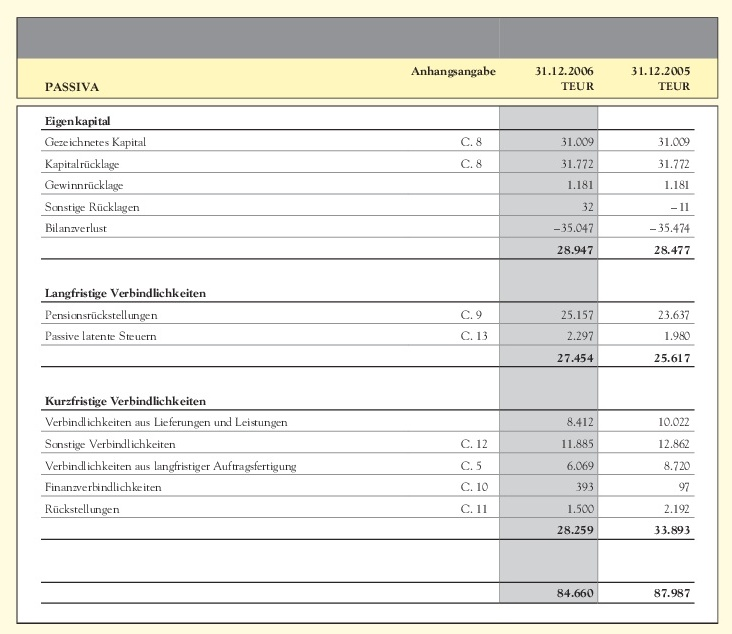table: (0, 0, 732, 634)
